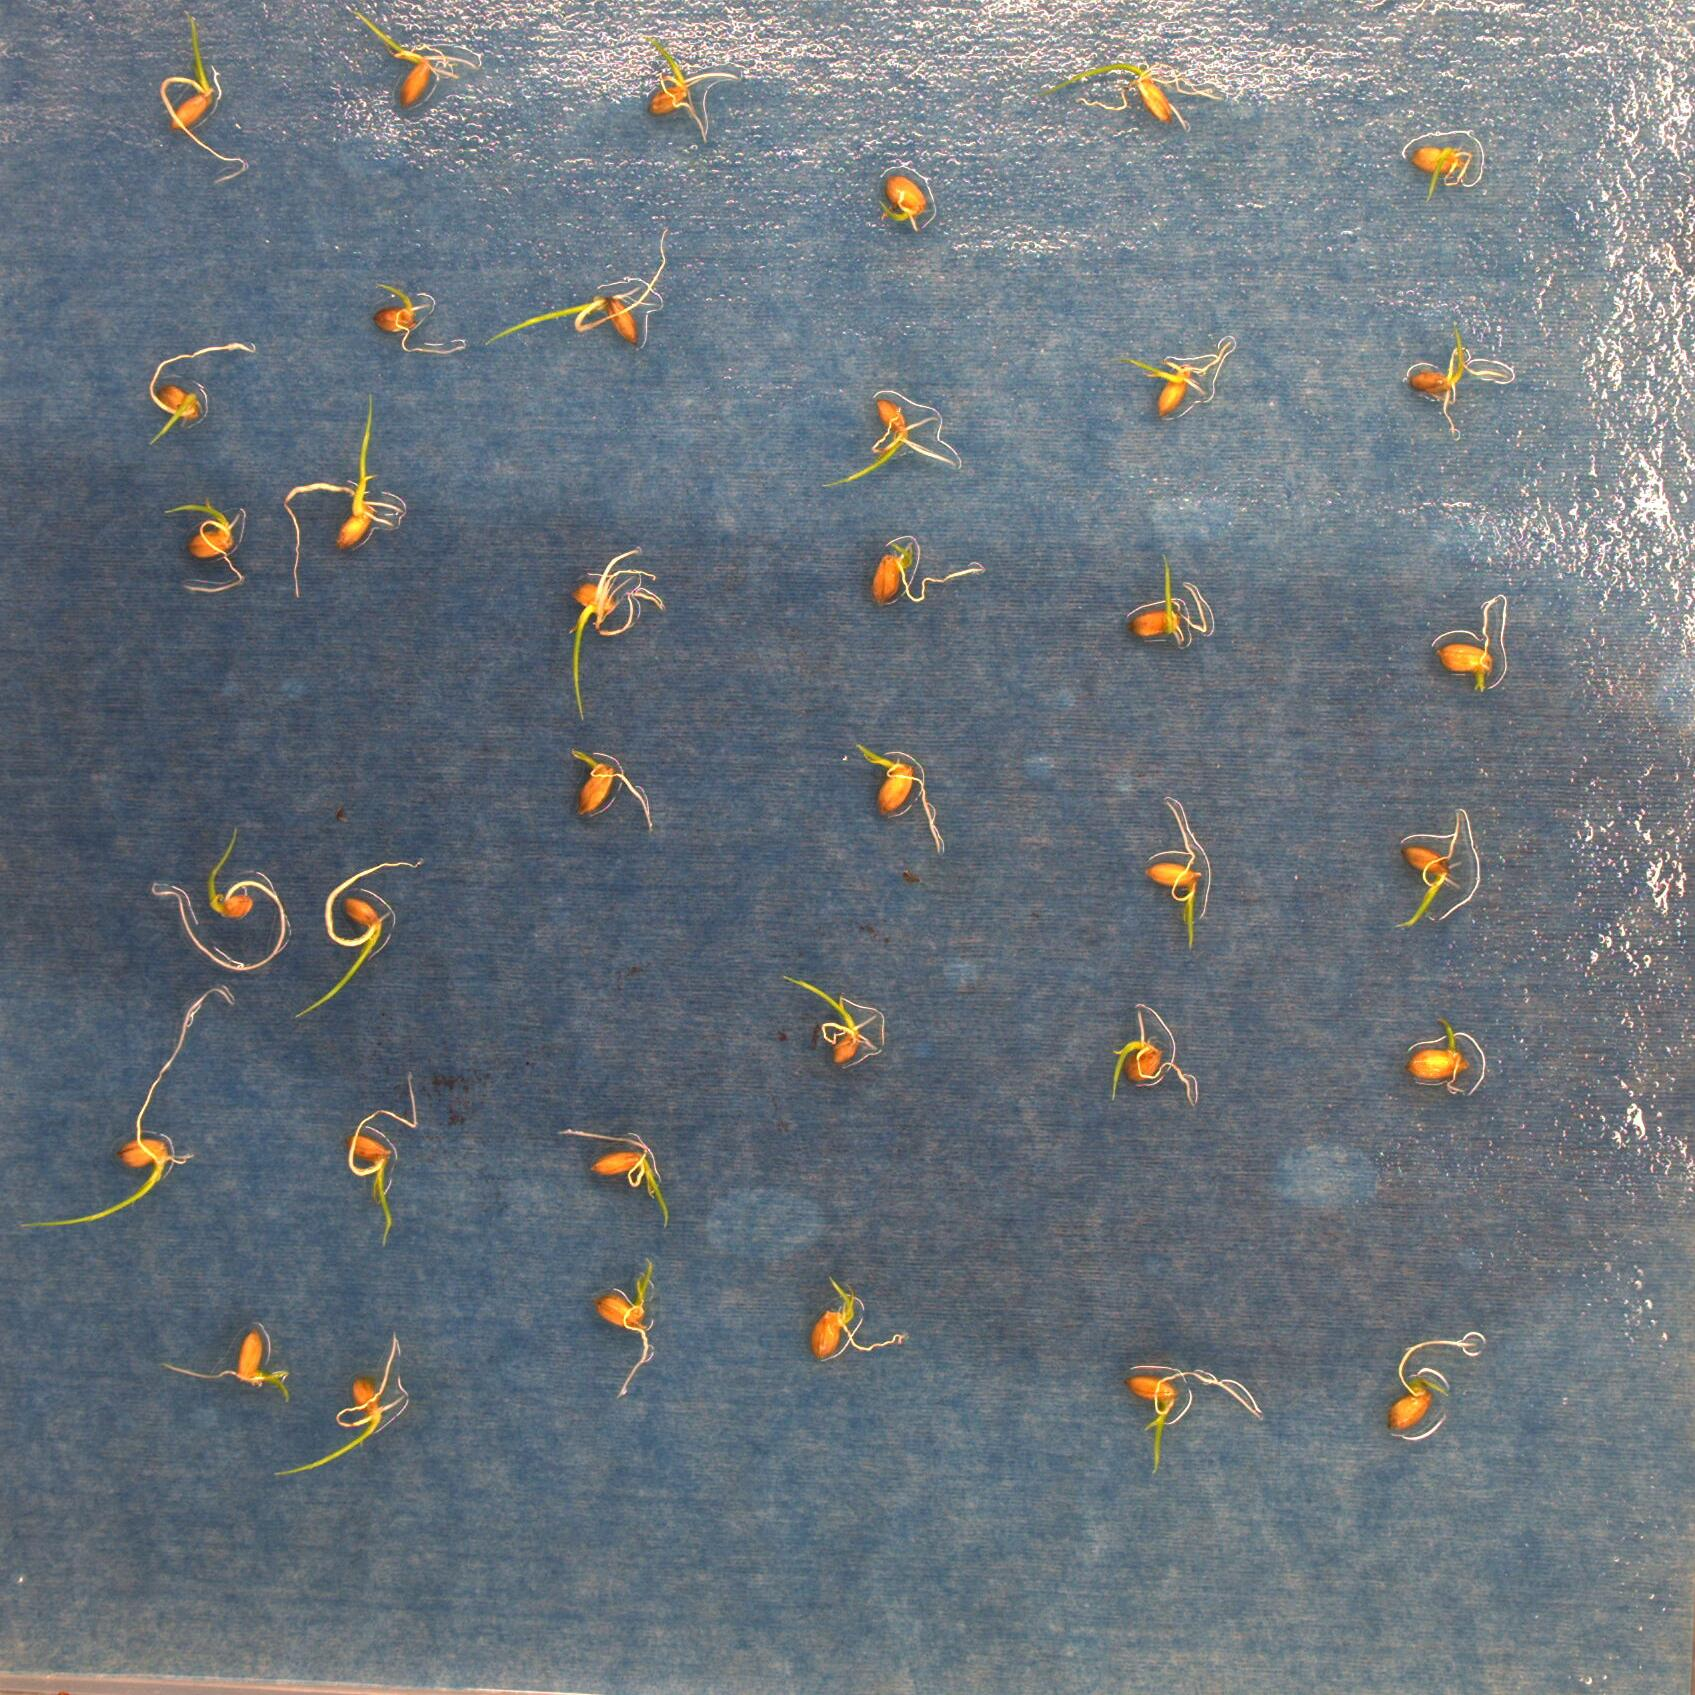sprout: (19, 987, 234, 1231), (281, 388, 394, 601), (484, 230, 669, 348), (296, 855, 425, 1018), (151, 823, 289, 973), (272, 1335, 404, 1479), (570, 546, 663, 720), (160, 16, 248, 185), (1124, 1371, 1263, 1476), (345, 1073, 419, 1248), (823, 397, 955, 489), (1038, 64, 1223, 129), (355, 12, 477, 109), (557, 1127, 669, 1231), (1406, 324, 1507, 436), (147, 341, 251, 449), (643, 36, 740, 141), (161, 1326, 290, 1405), (781, 972, 886, 1068), (855, 744, 944, 854), (591, 1256, 657, 1399), (1111, 1001, 1197, 1108), (1146, 796, 1205, 948), (1122, 338, 1232, 418), (1392, 810, 1464, 930), (1388, 1340, 1478, 1433), (809, 1276, 903, 1364), (871, 540, 989, 608), (1128, 553, 1208, 647), (163, 503, 244, 594), (568, 748, 655, 832), (373, 284, 469, 357), (1437, 594, 1503, 692), (1405, 1015, 1473, 1097), (1409, 143, 1471, 200), (877, 172, 928, 233)
